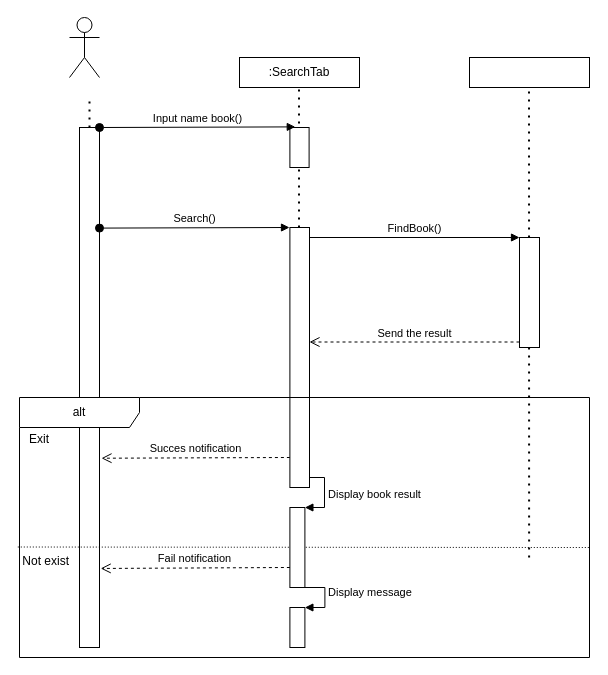
Image size: 608x675. Some labels were removed from this diagram. Here are the shapes that lost their labels. From the top down, the centre of each, then its label:
At (84,47): "user".
At (529,72): ":DataBase".
